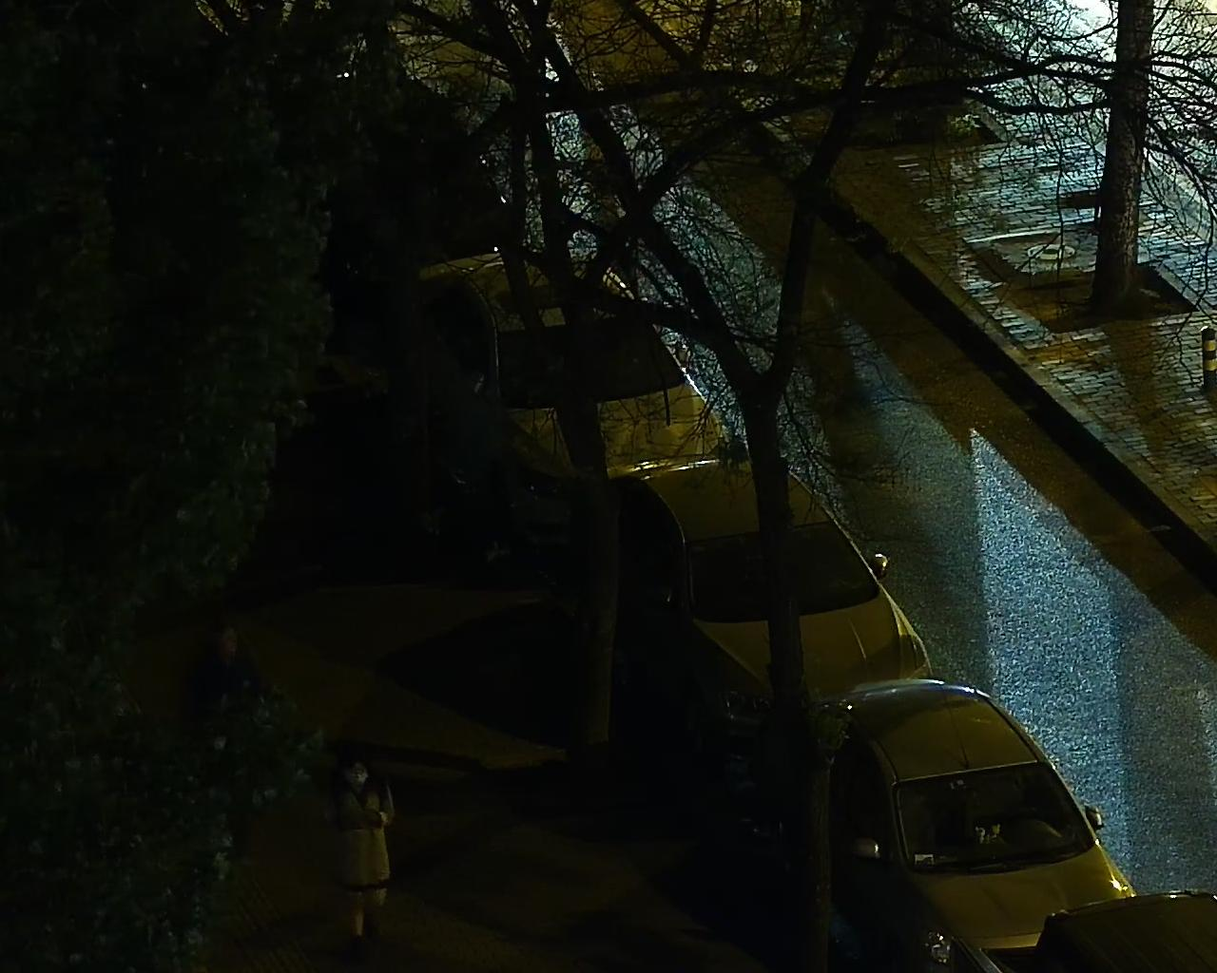person: (182, 622, 275, 857), (321, 744, 399, 966)
